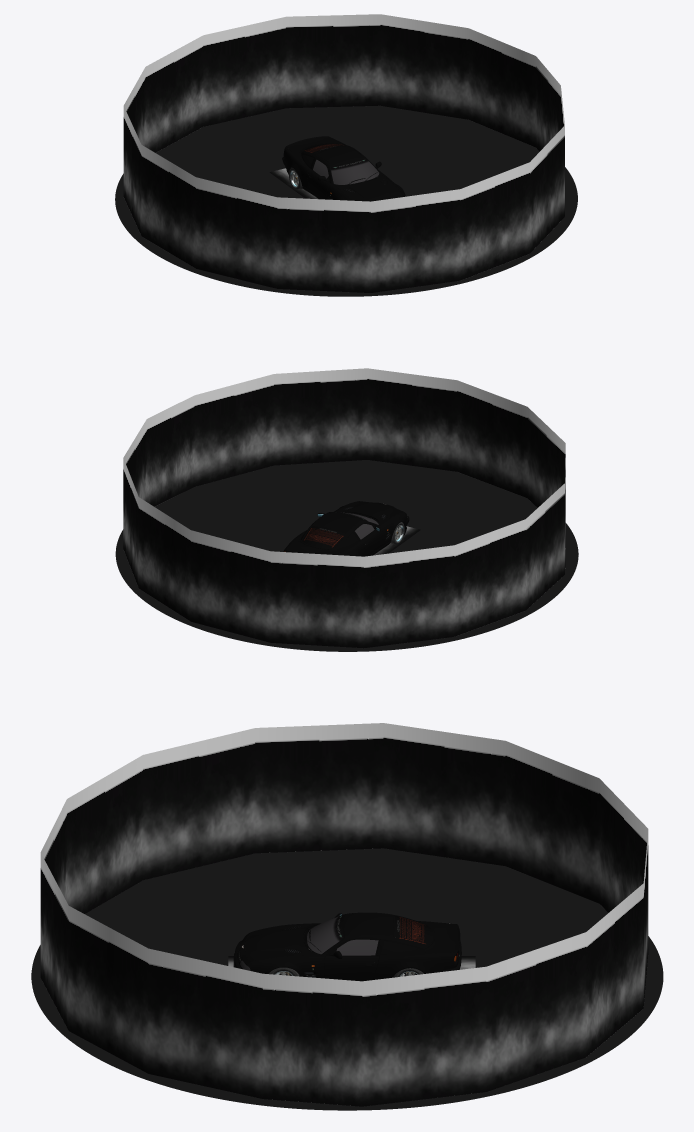
Rendered from aston.obj.
The picture shows the model from 3 angles, top to bottom: view 1: azimuth 30°, elevation 25°; view 2: azimuth 150°, elevation 25°; view 3: azimuth 270°, elevation 25°; orthographic projection. The views are drawn at different scales.
Bounding box in the file's own units: 14.03 × 2.9 × 13.97.
